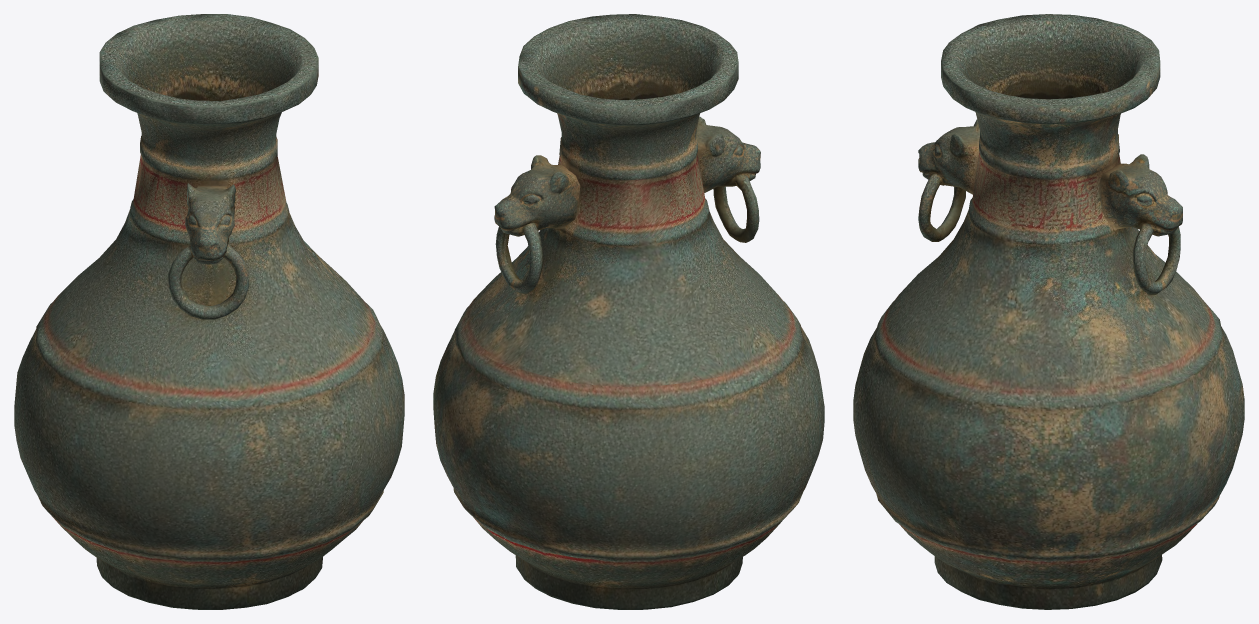
File: tripo_convert_f9a95d90-ee65-4b25-9345-97f16167e7da.fbx
3 renders of one model, left to right at view 1: azimuth 30°, elevation 25°; view 2: azimuth 150°, elevation 25°; view 3: azimuth 270°, elevation 25°, orthographic.
Parts seen in each view (by area): view 1: tripo_node_f9a95d90; view 2: tripo_node_f9a95d90; view 3: tripo_node_f9a95d90.
Part boxes in pixels (x1,y1,x2,y2): tripo_node_f9a95d90: [14, 14, 404, 609]; tripo_node_f9a95d90: [433, 14, 824, 609]; tripo_node_f9a95d90: [853, 14, 1244, 609].
Bounding box in the file's own units: 0.7051 × 0.998 × 0.7051.
Materials: 1 (1 with a texture image).
